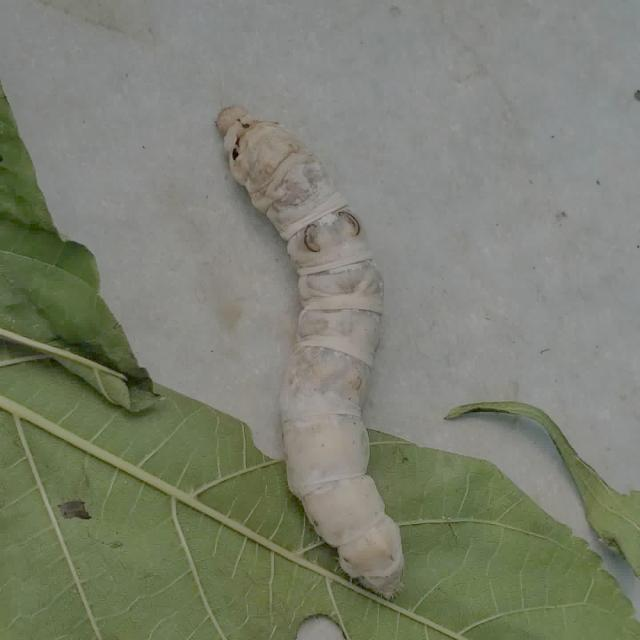Grasserie: (205, 92, 426, 604)
